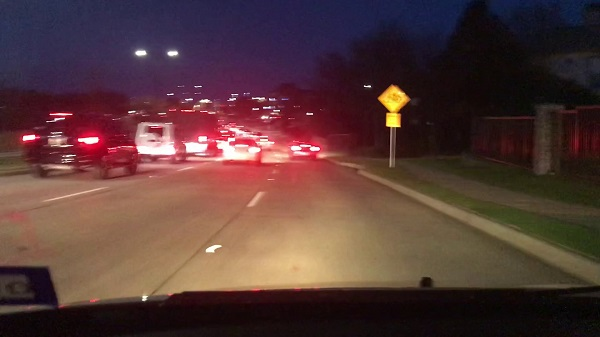car: (16, 104, 139, 177), (130, 120, 192, 164), (222, 139, 259, 162), (287, 138, 322, 160)
